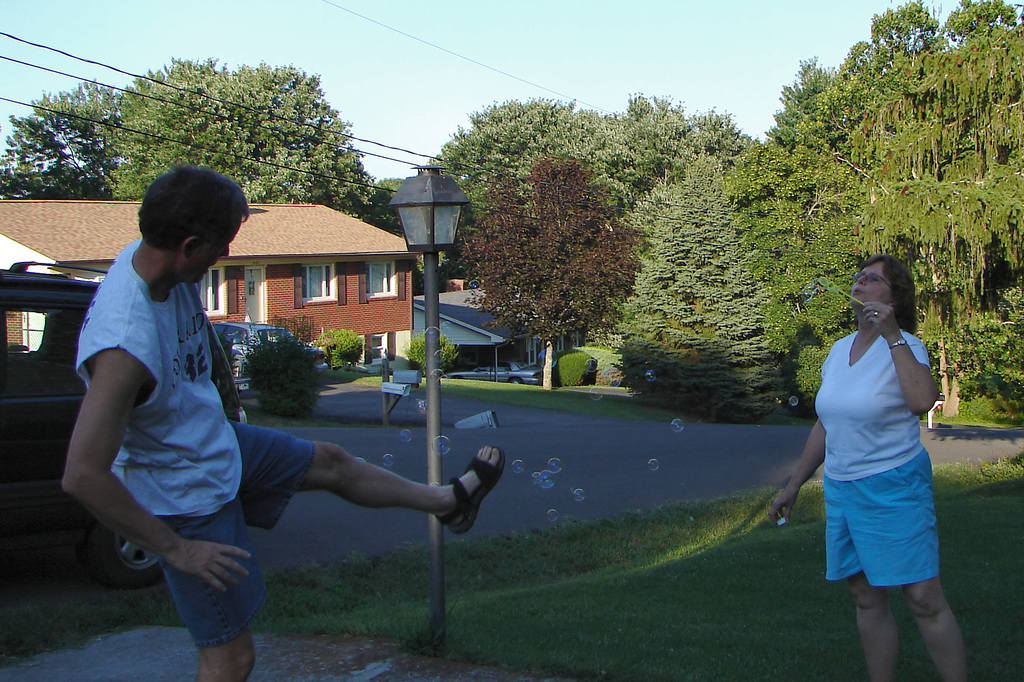Footwear: (433, 463, 498, 548)
